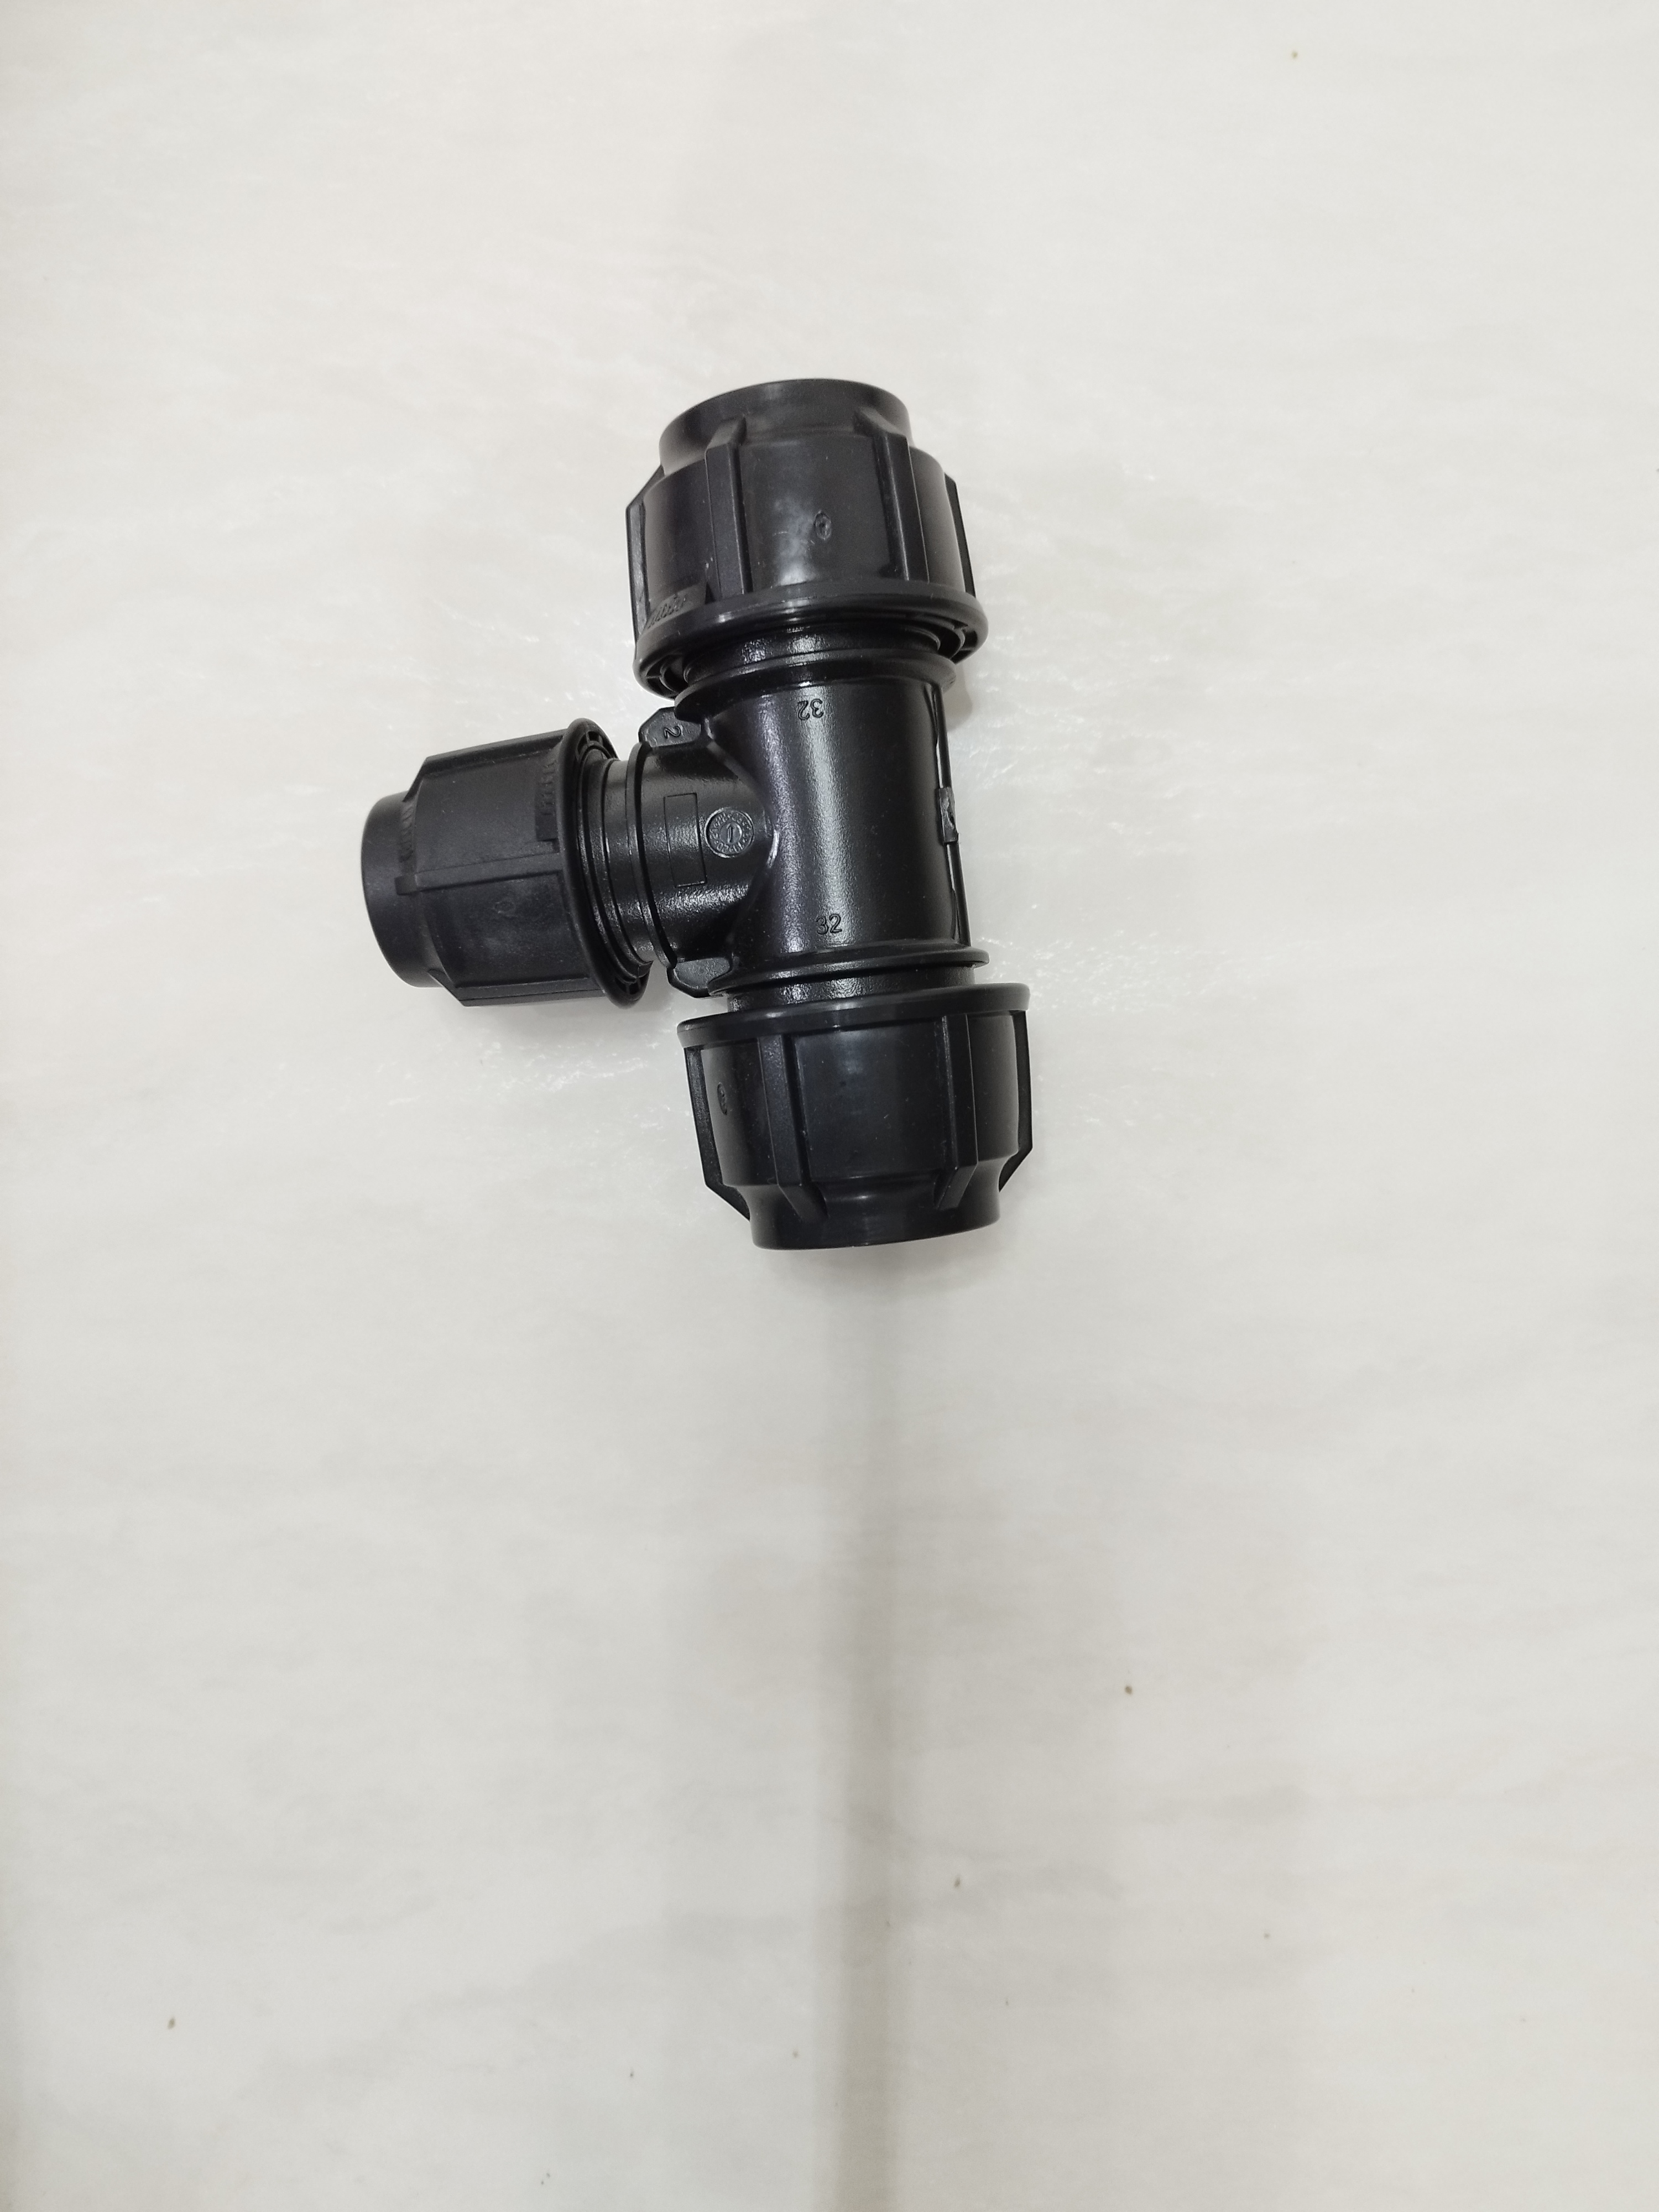plastic_tee_connector: (342, 359, 1046, 1266)
